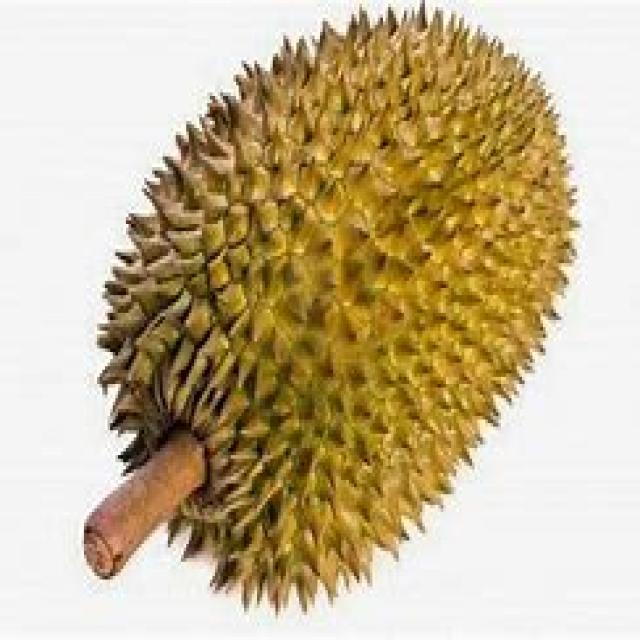mature: (85, 7, 574, 608)
